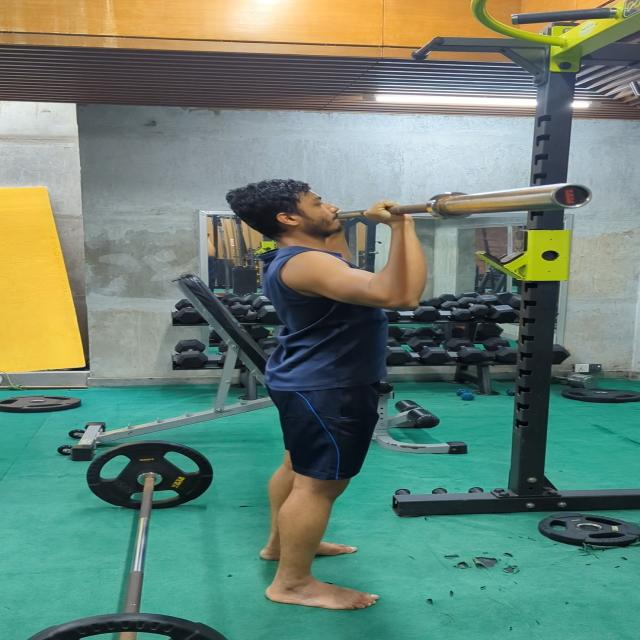Normal_OverheadPress: (192, 153, 436, 617)
